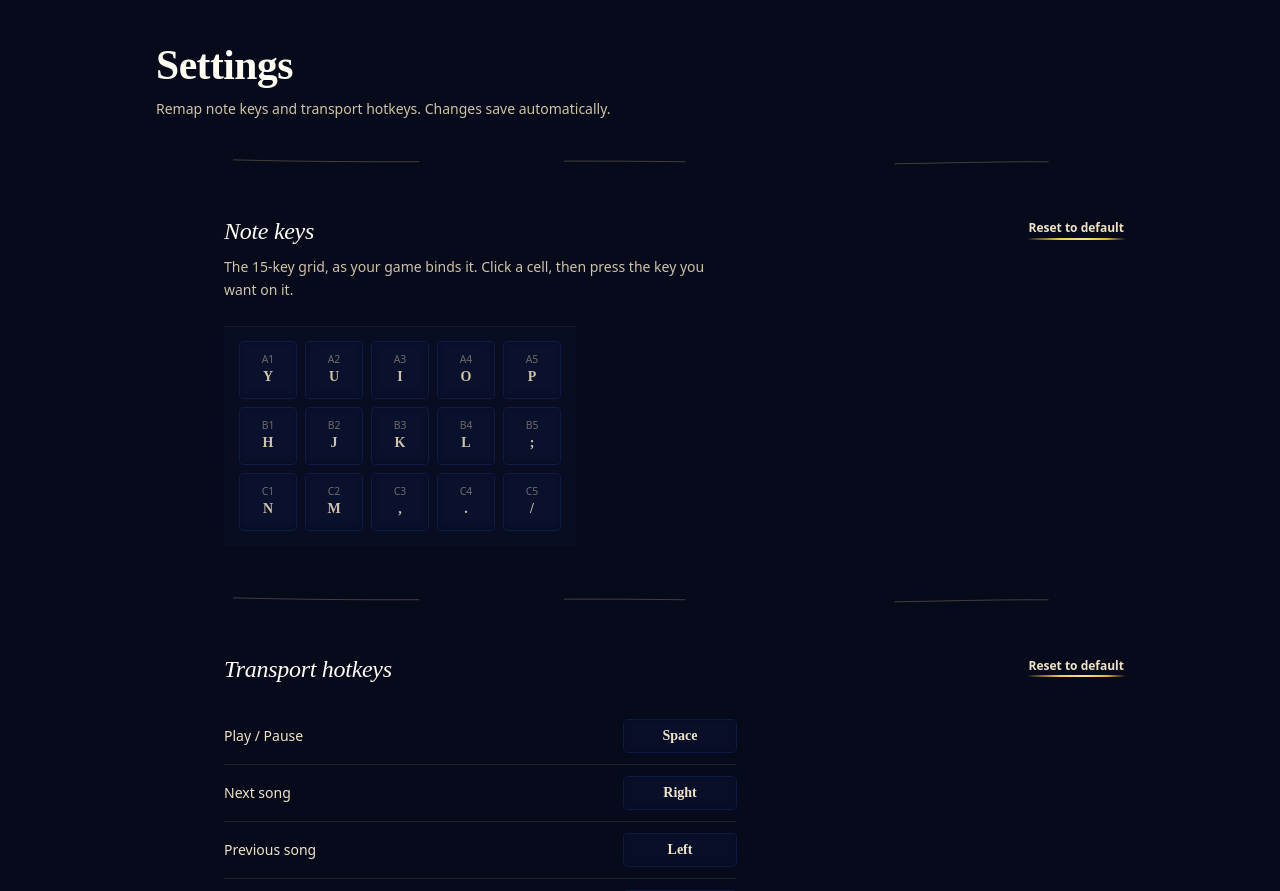
Scenario: Settings › warns when a captured key is already bound to another cell, and does not save the duplicate
Click the button named "Note key A2" at (334, 370), box [306,342,362,398]
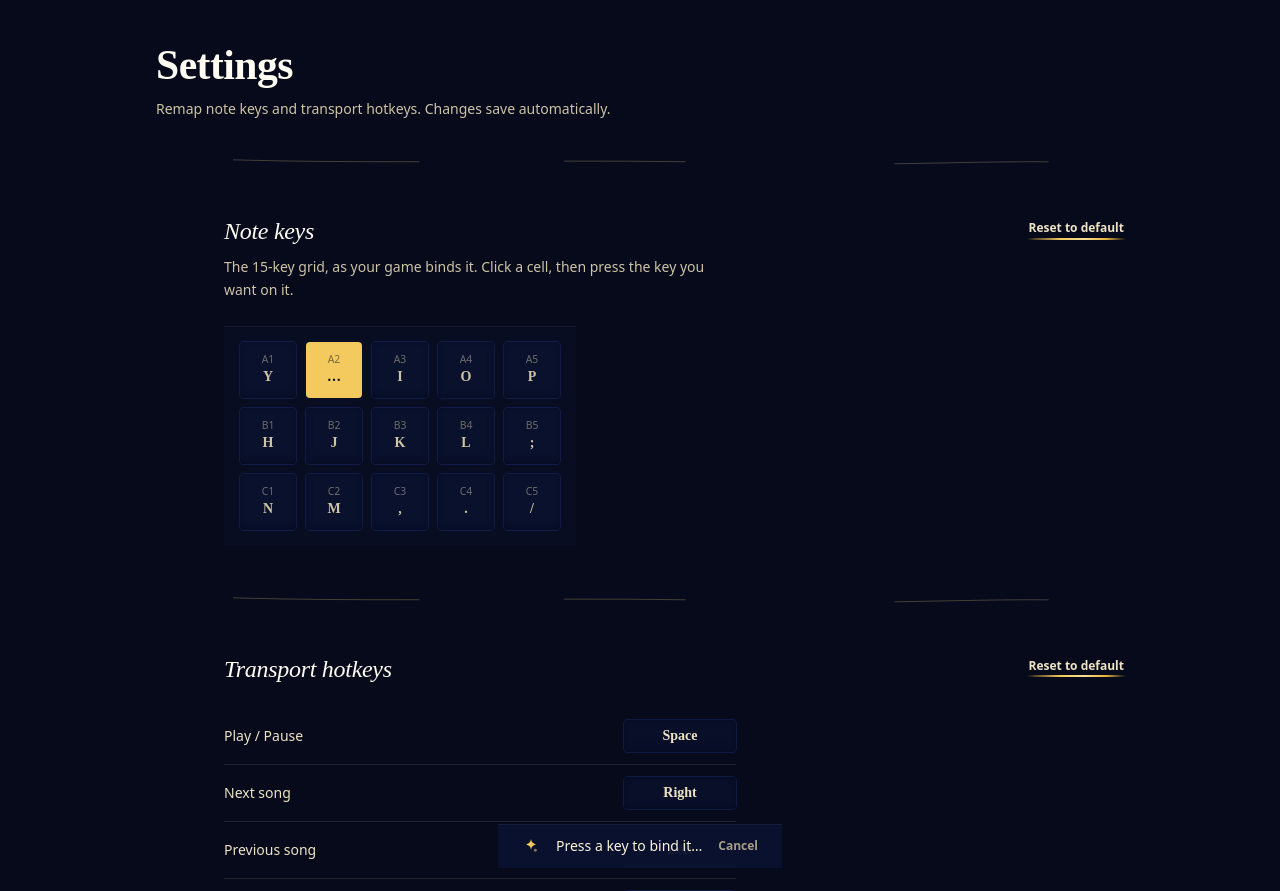
Note: 'y' is already the default binding for A1.
Press y
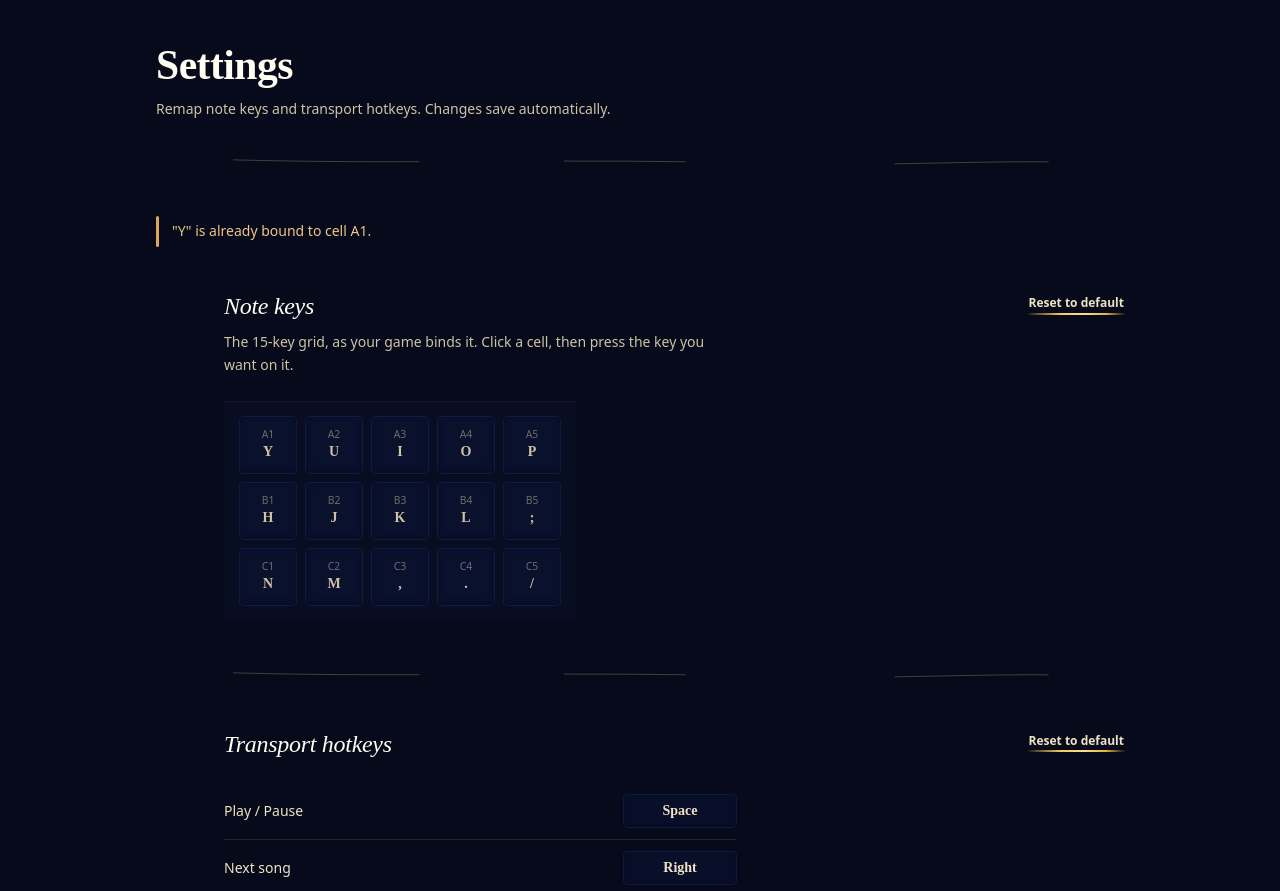
expect the text "\"Y\" is already bound to cell A1." is shown: met, box [156,216,371,247]
expect the button named "Note key A2" shows "U": met, box [306,417,362,473]
